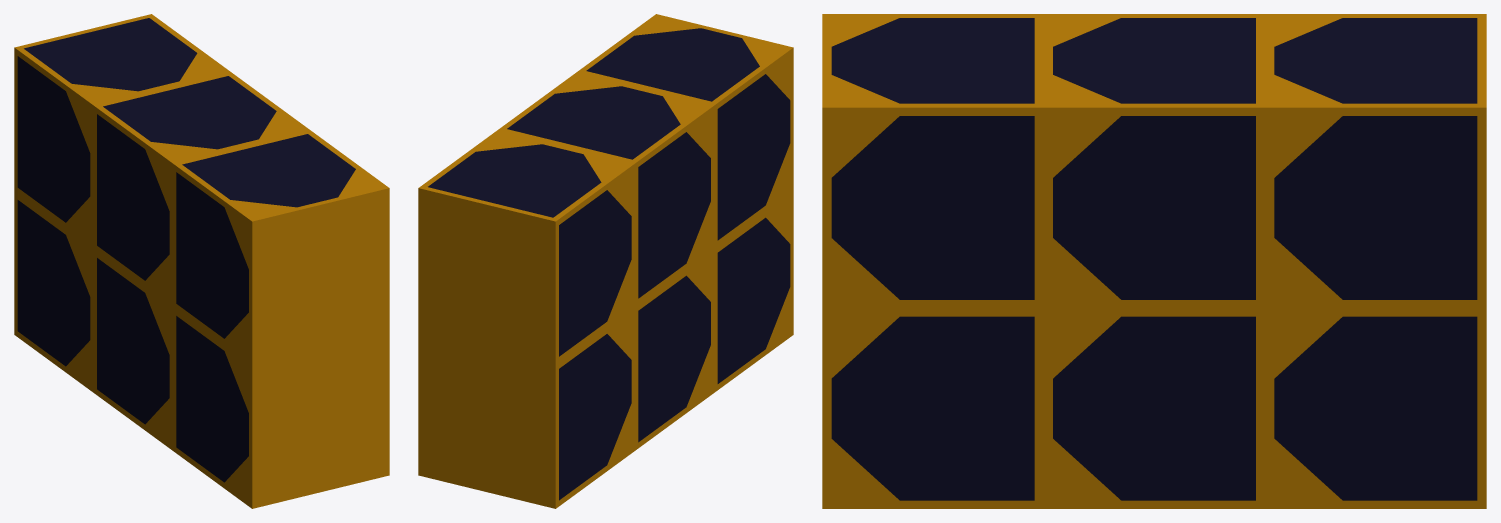
File: Cubesat_6U.obj
3 views of the same model, side by side, from view 1: azimuth 30°, elevation 25°; view 2: azimuth 150°, elevation 25°; view 3: azimuth 270°, elevation 25° (orthographic). The views are drawn at different scales.
Visible parts, largest first — view 1: Cube1_CUBE_BLUE, Cube1_GOLD_KAPTON; view 2: Cube1_CUBE_BLUE, Cube1_GOLD_KAPTON; view 3: Cube1_CUBE_BLUE, Cube1_GOLD_KAPTON.
Boxes of the visible parts, bbox=[...] form: Cube1_CUBE_BLUE: bbox=[17, 18, 355, 482]; Cube1_GOLD_KAPTON: bbox=[14, 14, 389, 508]; Cube1_CUBE_BLUE: bbox=[428, 28, 790, 500]; Cube1_GOLD_KAPTON: bbox=[418, 14, 793, 508]; Cube1_CUBE_BLUE: bbox=[831, 18, 1477, 500]; Cube1_GOLD_KAPTON: bbox=[822, 14, 1486, 508].
Size of the model in its own units: 0.1 by 0.2 by 0.3.
